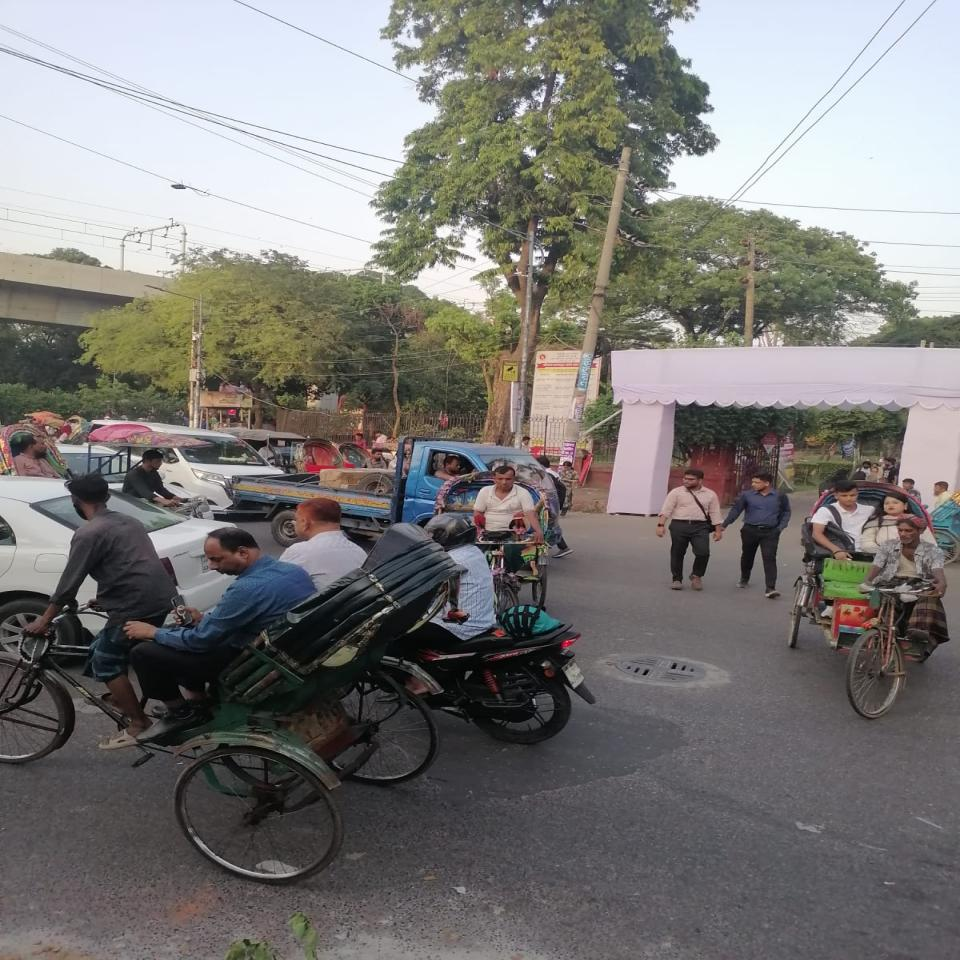person: (722, 471, 791, 598), (656, 467, 722, 591)
